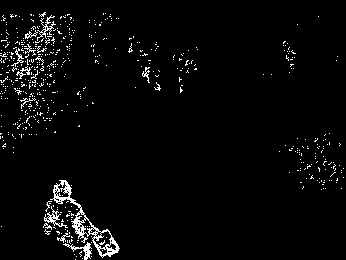person: (43, 178, 120, 260)
